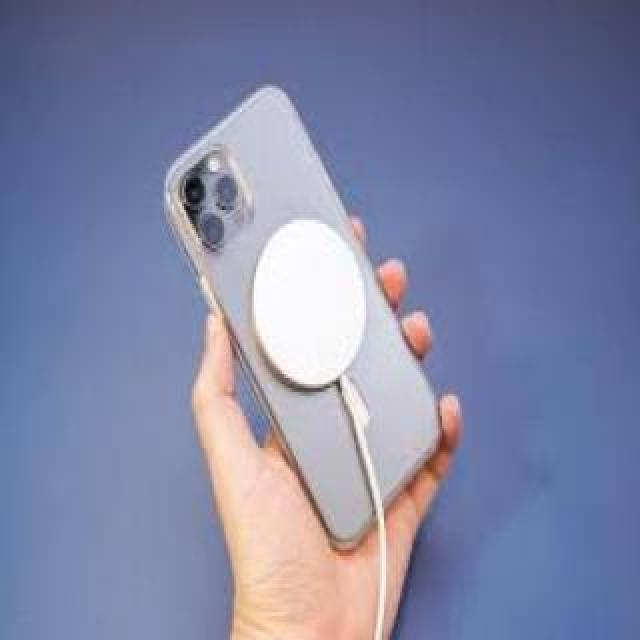smart phone: (148, 71, 552, 565)
